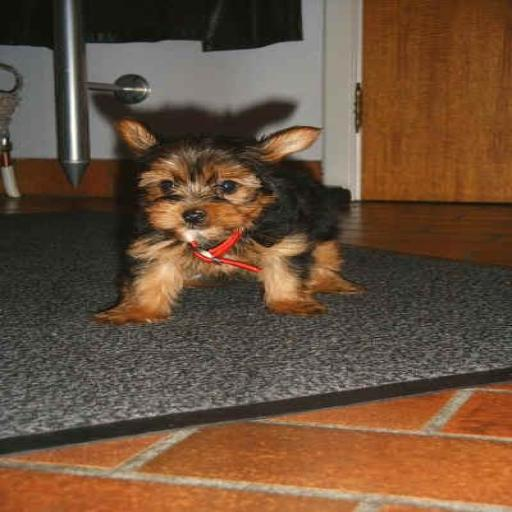dog_face: (117, 118, 316, 234)
